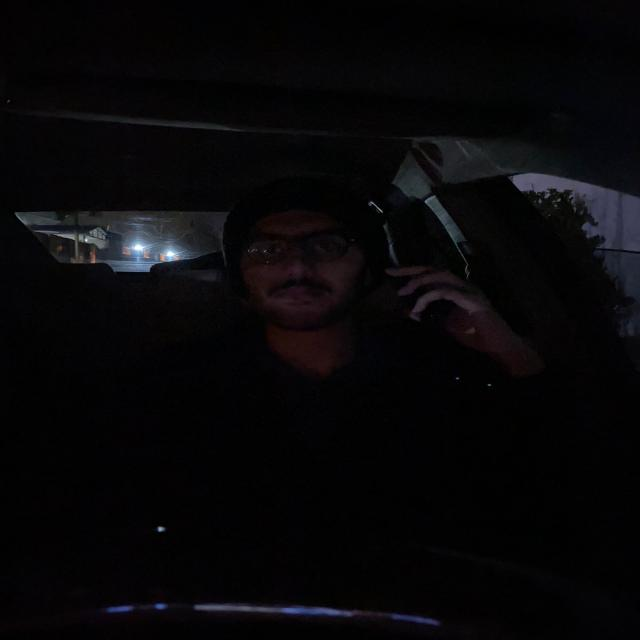person: (217, 172, 387, 344)
